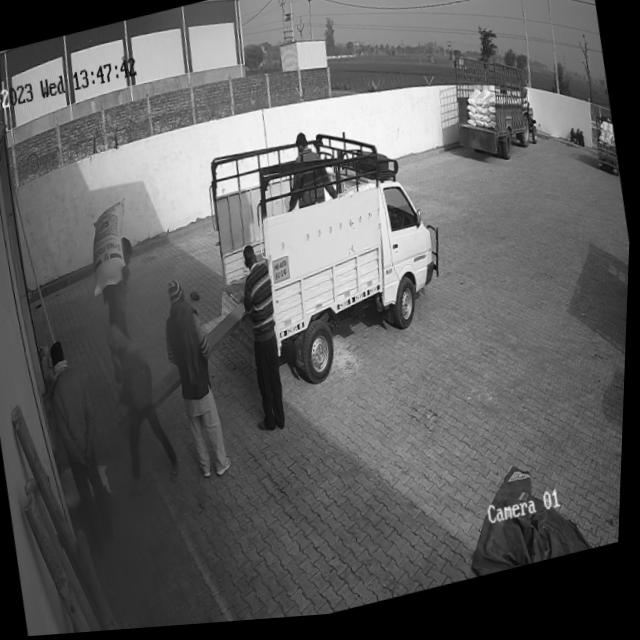sack: (81, 198, 140, 297)
